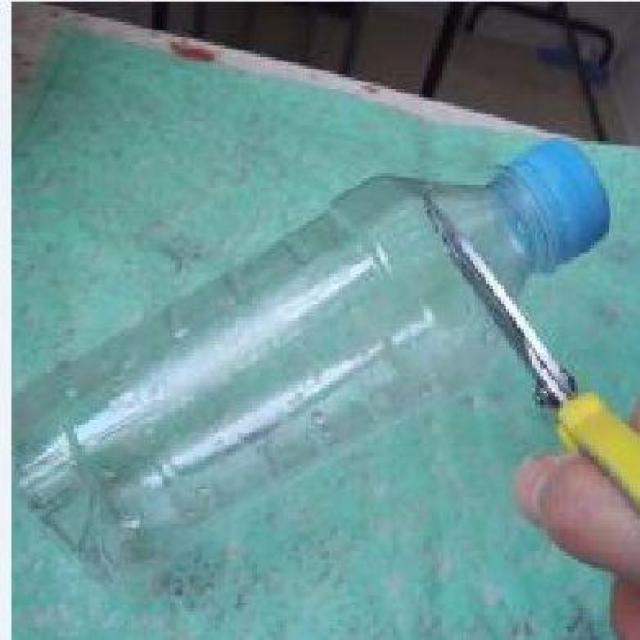-Recyclables - plastic bottle-: (16, 140, 614, 578)
